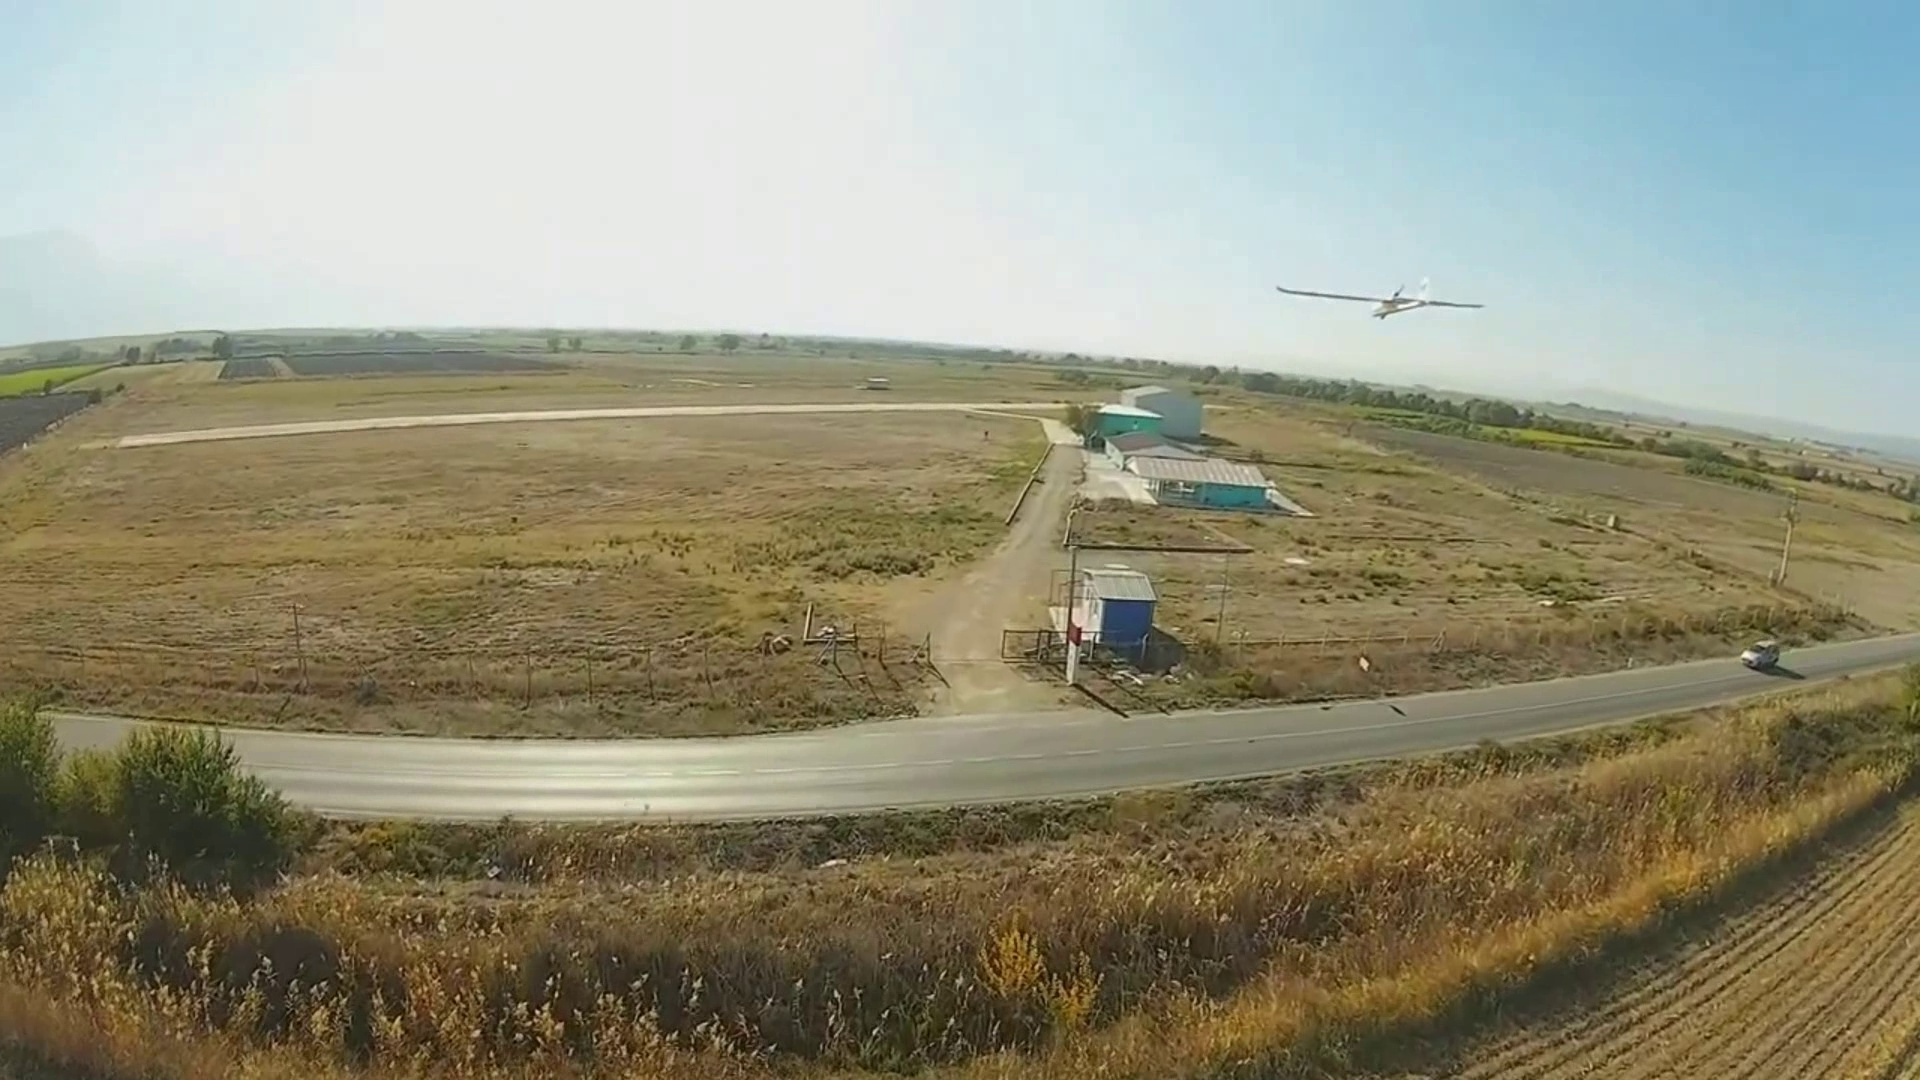airplane: (1270, 266, 1486, 320), (1270, 278, 1499, 316)
